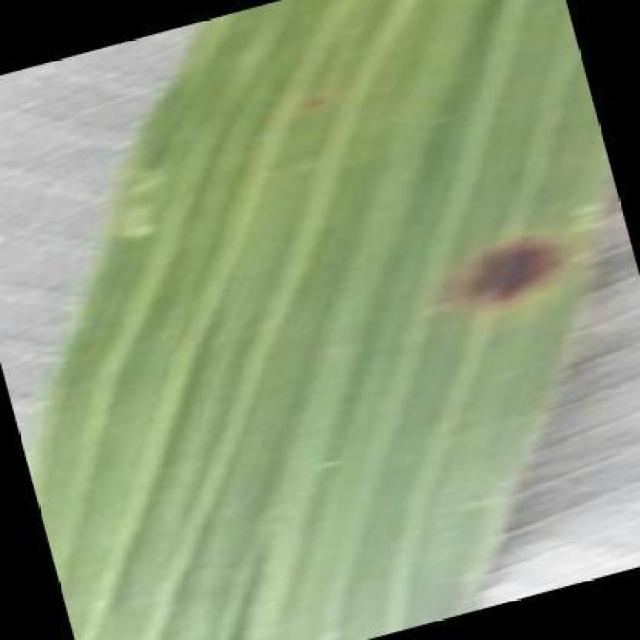Leaf_Blast: (418, 200, 596, 342), (288, 79, 344, 121)
